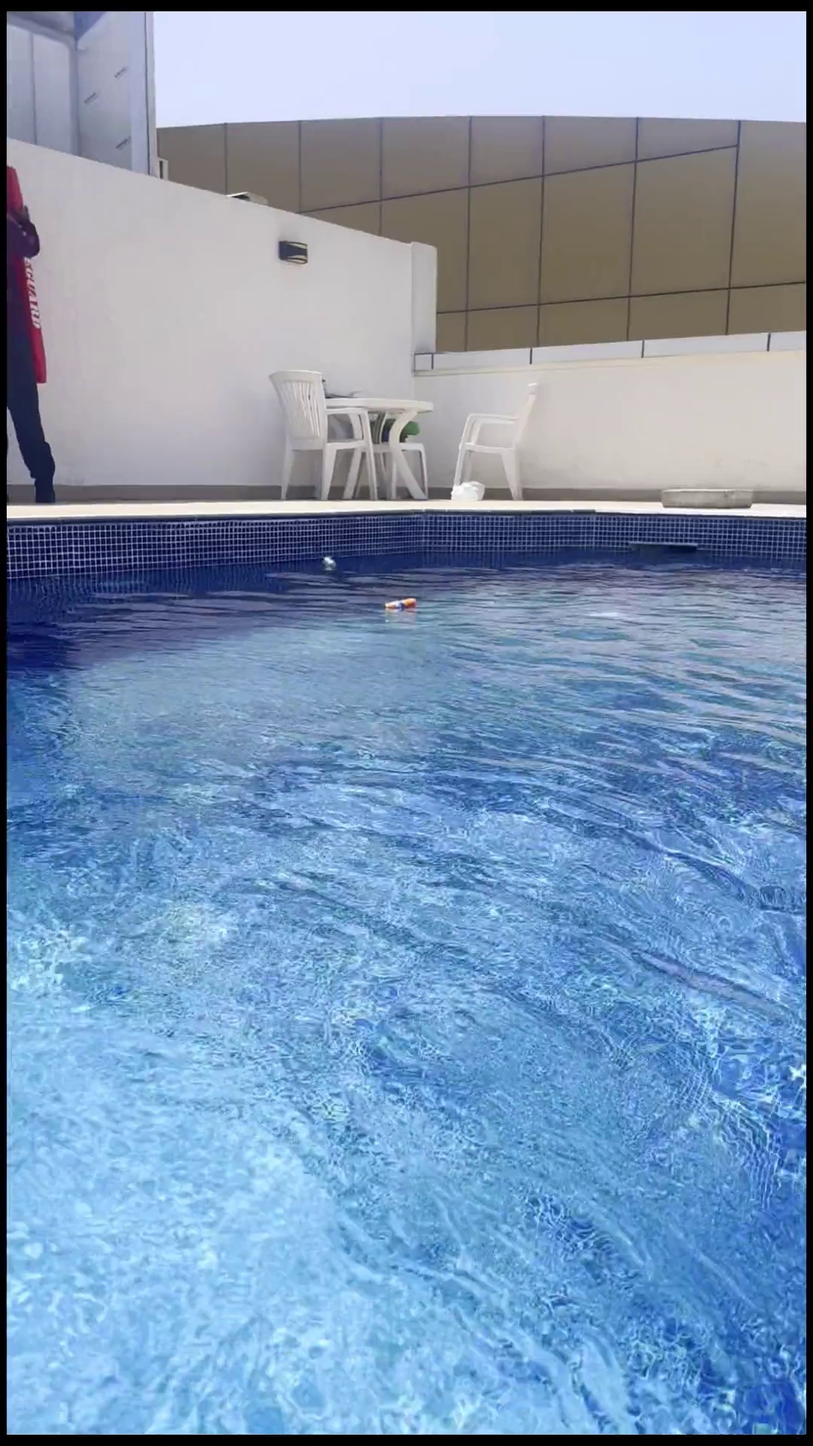debris: (379, 587, 419, 634), (318, 543, 337, 582)
